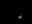person: (16, 12, 24, 20), (27, 17, 32, 22)
